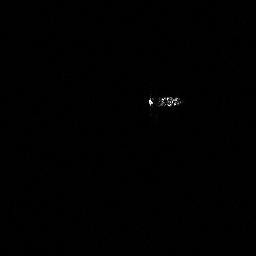ship: (148, 96, 181, 108)
